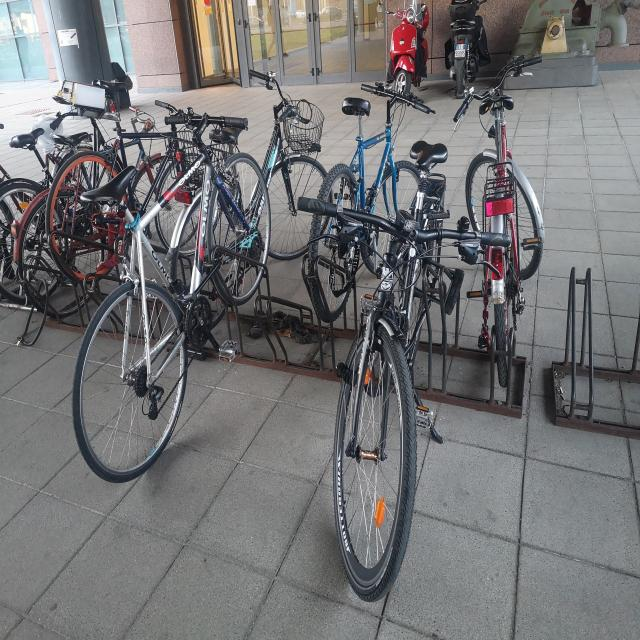Bicycle: (77, 108, 279, 492), (334, 129, 467, 612), (459, 49, 552, 399), (162, 80, 336, 266), (49, 96, 200, 277), (0, 105, 115, 293), (318, 95, 418, 302), (20, 121, 106, 306)
